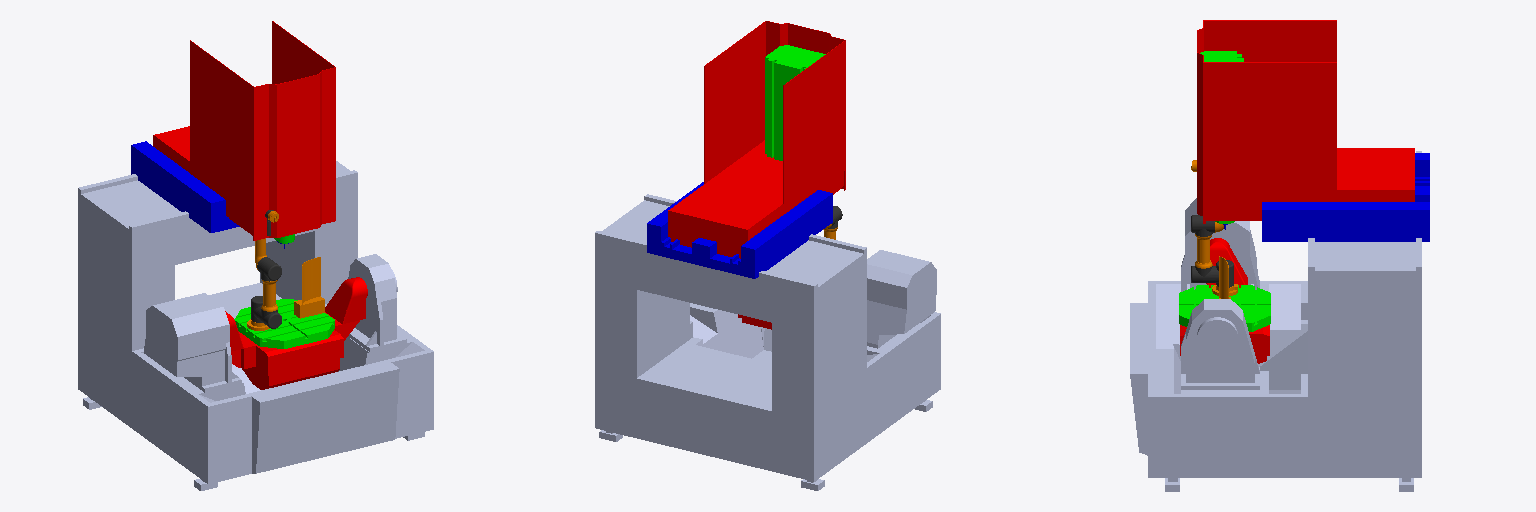
The robot description file, URDF, robot "aobo_tuopu":
 <robot name="aobo_tuopu"> 
	<link name="link_base">
		<visual>
		  <origin xyz="0. 0. 0." rpy="0. 0. 0." />
		  <geometry>
			<mesh filename="Geometry/A_TABLE_SURPORT.obj" scale="0.001 0.001 0.001" />
		  </geometry>
		  <material
			name="color0">
			<color rgba="0.792156862745098 0.819607843137255 0.933333333333333 0.8" />
		  </material>
		</visual>
		<collision>
          <origin rpy="0 0 0" xyz="0 0 0"/>
          <geometry>
            <mesh filename="Geometry/A_TABLE_SURPORT_vhacd.obj" scale="0.001 0.001 0.001" />
          </geometry>
        </collision>

		<visual>
		  <origin xyz="0. 0. 0." rpy="0. 0. 0." />
		  <geometry>
			<mesh filename="Geometry/BED.obj" scale="0.001 0.001 0.001" />
		  </geometry>
		  <material
			name="color0">
			<color rgba="0.792156862745098 0.819607843137255 0.933333333333333 0.8" />
		  </material>
		</visual>
		<collision>
          <origin rpy="0 0 0" xyz="0 0 0"/>
          <geometry>
            <mesh filename="Geometry/BED_vhacd.obj" scale="0.001 0.001 0.001" />
          </geometry>
        </collision>
    </link>
				
	<link name="link_X_axis">
		<visual>
		  <origin xyz="0. 0. 0." rpy="0. 0. 0." />
		  <geometry>
			<mesh filename="Geometry/X_AXIS.obj" scale="0.001 0.001 0.001" />
		  </geometry>
		  <material
			name="color3">
			<color rgba="0 0 1 0.8" />
		  </material>
		</visual>
		<collision>
          <origin xyz="0. 0. 0." rpy="0. 0. 0." />
          <geometry>
            <mesh filename="Geometry/X_AXIS_vhacd.obj" scale="0.001 0.001 0.001" />
          </geometry>
        </collision>
    </link>
	
	
	<joint name="machine_X" type="prismatic">
        <axis xyz="1 0 0"/>
        <parent link="link_base"/>
        <child link="link_X_axis"/>
        <origin rpy="0. 0. 0." xyz="0. 0. 0."/>
        <limit effort="100" velocity="100"/>
        <joint_properties damping="0.0" friction="0.0"/>
    </joint>
	
	<link name="link_Y_axis">
		<visual>
		  <origin xyz="0. 0. 0." rpy="0. 0. 0." />
		  <geometry>
			<mesh filename="Geometry/Y_Axis.obj" scale="0.001 0.001 0.001" />
		  </geometry>
		  <material
			name="color1">
		  </material>
		</visual>
		<collision>
          <origin xyz="0. 0. 0." rpy="0. 0. 0." />
          <geometry>
            <mesh filename="Geometry/Y_Axis_vhacd.obj" scale="0.001 0.001 0.001" />
          </geometry>
        </collision>
    </link>
	
	<joint name="machine_Y" type="prismatic">
        <axis xyz="0 1 0"/>
        <parent link="link_X_axis"/>
        <child link="link_Y_axis"/>
        <origin rpy="0. 0. 0." xyz="0. 0. 0."/>
        <limit effort="100" velocity="100"/>
        <joint_properties damping="0.0" friction="0.0"/>
    </joint>
	
	<link name="link_Z_axis">
		<visual>
		  <origin xyz="0. 0. 0." rpy="0. 0. 0." />
		  <geometry>
			<mesh filename="Geometry/Z_Axis.obj" scale="0.001 0.001 0.001" />
		  </geometry>
		  <material
			name="color2">
		  </material>
		</visual>
		<collision>
          <origin xyz="0. 0. 0." rpy="0. 0. 0." />
          <geometry>
            <mesh filename="Geometry/Z_Axis_vhacd.obj" scale="0.001 0.001 0.001" />
          </geometry>
        </collision>
    </link>
	
	<joint name="machine_Z" type="prismatic">
        <axis xyz="0 0 1"/>
        <parent link="link_Y_axis"/>
        <child link="link_Z_axis"/>
        <origin rpy="0. 0. 0." xyz="0. 0. 0."/>
        <limit effort="100" velocity="100"/>
        <joint_properties damping="0.0" friction="0.0"/>
    </joint>
	
	<link name="link_A_axis">
		<visual>
		  <origin xyz="0. +0.05 -.128" rpy="0. 0. 0." />
		  <geometry>
			<mesh filename="Geometry/A_TABLE.obj" scale="0.001 0.001 0.001" />
		  </geometry>
		  <material
			name="color1">
			<color rgba="1 0 0 0.8" />
		  </material>
		</visual>
		<collision>
          <origin xyz="0. +0.05 -.128" rpy="0. 0. 0." />
          <geometry>
            <mesh filename="Geometry/A_TABLE_vhacd.obj" scale="0.001 0.001 0.001" />
          </geometry>
        </collision>
    </link>
	
	<joint name="machine_A" type="revolute">
        <axis xyz="1 0 0"/>
        <parent link="link_base"/>
        <child link="link_A_axis"/>
        <origin rpy="0. 0. 0." xyz="0. -.05 .128"/>
        <limit effort="100" velocity="100"/>
        <joint_properties damping="0.0" friction="0.0"/>
    </joint>
    

    <link name="link_C_axis">
		<visual>
		  <origin xyz="0. 0. 0." rpy="0. 0. 0." />
		  <geometry>
			<mesh filename="Geometry/C_TABLE.obj" scale="0.001 0.001 0.001" />
		  </geometry>
		  <material
			name="color2">
			<color rgba="0 1 0 0.8" />
		  </material>
		</visual>
		<collision>
          <origin xyz="0. 0. 0." rpy="0. 0. 0." />
          <geometry>
            <mesh filename="Geometry/C_TABLE_vhacd.obj" scale="0.001 0.001 0.001" />
          </geometry>
        </collision>
        <visual>
		  <origin xyz="-0.2 0. 0." rpy="0. 0. 0." />
		  <geometry>
			<mesh filename="Geometry/i7-(1)-base.obj" scale="0.001 0.001 0.001" />
		  </geometry>
		  <material
			name="robot_orange">
			<color rgba="0.9137255 0.5137254 0. 1" />
		  </material>
		</visual>
		<collision>
          <origin xyz="-0.2 0. 0." rpy="0. 0. 0." />
          <geometry>
            <mesh filename="Geometry/i7-(1)-base_vhacd.obj" scale="0.001 0.001 0.001" />
          </geometry>
        </collision>

		<visual>
		  <origin xyz="0.2 0 0." rpy="0. 0. 0." />
		  <geometry>
			<mesh filename="Geometry/workpiece.obj" scale="0.001 0.001 0.001" />
		  </geometry>
		  <material
			name="robot_orange">
			<color rgba="0.9137255 0.5137254 0. 1" />
		  </material>
		</visual>
		<collision>
          <origin xyz="0.2 0 0." rpy="0. 0. 0." />
          <geometry>
            <mesh filename="Geometry/workpiece_vhacd.obj" scale="0.001 0.001 0.001" />
          </geometry>
        </collision>
    </link>
	
	<joint name="machine_C" type="revolute">
        <axis xyz="0 0 1"/>
        <parent link="link_A_axis"/>
        <child link="link_C_axis"/>
        <origin rpy="0. 0. 0." xyz="0. +.05 -.128"/>
        <limit effort="100" velocity="100"/>
        <joint_properties damping="0.0" friction="0.0"/>
    </joint>
	
	<link name="link_S_axis">
		<visual>
		  <origin xyz="0. 0. 0." rpy="0. 0. 0." />
		  <geometry>
			<mesh filename="Geometry/Spindle.obj" scale="0.001 0.001 0.001" />
		  </geometry>
		  <material
			name="color3">
		  </material>
		</visual>
		<collision>
          <origin xyz="0. 0. 0." rpy="0. 0. 0." />
          <geometry>
            <mesh filename="Geometry/Spindle_vhacd.obj" scale="0.001 0.001 0.001" />
          </geometry>
        </collision>

		<visual>
		  <origin xyz="0. 0. 0.54" rpy="1.57 0. 0." />
		  <geometry>
			<mesh filename="Geometry/cutter_tool.obj" scale="0.001 0.001 0.001" />
		  </geometry>
		  <material
			name="color3">
		  </material>
		</visual>
		<collision>
          <origin xyz="0. 0. 0.54" rpy="1.57 0. 0." />
          <geometry>
            <mesh filename="Geometry/cutter_tool.obj" scale="0.001 0.001 0.001" />
          </geometry>
        </collision>
    </link>
	
	<joint name="machine_S" type="continuous">
        <axis xyz="0 0 1"/>
        <parent link="link_Z_axis"/>
        <child link="link_S_axis"/>
        <origin rpy="0. 0. 0." xyz="0. 0. 0."/>
        <limit effort="100" velocity="100"/>
        <joint_properties damping="0.0" friction="0.0"/>
    </joint>
	
	
	<link name="link_robot_joint1">
		<visual>
		  <origin xyz="0. 0. -.122" rpy="0. 0. 0" />
		  <geometry>
			<mesh filename="Geometry/i7-(2)-ID1.obj" scale="0.001 0.001 0.001" />
		  </geometry>
		  <material
			name="robot_black">
			<color rgba="0.2509804 0.2509804 0.2509804 1" />
		  </material>
		</visual>
		<collision>
          <origin xyz="0. 0. -.122" rpy="0. 0. 0" />
          <geometry>
            <mesh filename="Geometry/i7-(2)-ID1_vhacd.obj" scale="0.001 0.001 0.001" />
          </geometry>
        </collision>
    </link>
	
	<joint name="robot_j1" type="revolute">
        <axis xyz="0 0 1"/>
        <parent link="link_C_axis"/>
        <child link="link_robot_joint1"/>
        <origin rpy="0. 0. 0" xyz="-0.2 0. 0.122"/>
        <limit effort="100" velocity="100"/>
        <joint_properties damping="0.0" friction="0.0"/>
    </joint>
	
	<link name="link_robot_joint2">
		<visual>
		  <origin xyz="0. 0.1215 -.122" rpy="0. 0. 0" />
		  <geometry>
			<mesh filename="Geometry/i7-(3)-ID2.obj" scale="0.001 0.001 0.001" />
		  </geometry>
		  <material
			name="robot_black">
			<color rgba="0.2509804 0.2509804 0.2509804 1" />
		  </material>
		</visual>
		<collision>
          <origin xyz="0. 0.1215 -.122" rpy="0. 0. 0" />
          <geometry>
            <mesh filename="Geometry/i7-(3)-ID2_vhacd.obj" scale="0.001 0.001 0.001" />
          </geometry>
        </collision>
		
		<visual>
		  <origin xyz="0. 0.1215 -0.122" rpy="0. 0. 0" />
		  <geometry>
			<mesh filename="Geometry/i7-(8)-dabiguan.obj" scale="0.001 0.001 0.001" />
		  </geometry>
		  <material
			name="robot_orange">
		  </material>
		</visual>
		<collision>
          <origin xyz="0. 0.1215 -0.122" rpy="0. 0. 0" />
          <geometry>
            <mesh filename="Geometry/i7-(8)-dabiguan_vhacd.obj" scale="0.001 0.001 0.001" />
          </geometry>
        </collision>
		
		<visual>
		  <origin xyz="0. 0.1215 -0.122" rpy="0. 0. 0" />
		  <geometry>
			<mesh filename="Geometry/i7-(4)-ID3.obj" scale="0.001 0.001 0.001" />
		  </geometry>
		  <material name="robot_black"/>
		</visual>
		<collision>
          <origin xyz="0. 0.1215 -0.122" rpy="0. 0. 0" />
          <geometry>
            <mesh filename="Geometry/i7-(4)-ID3_vhacd.obj" scale="0.001 0.001 0.001" />
          </geometry>
        </collision>
    </link>
	
	<joint name="robot_j2" type="revolute">
        <axis xyz="0 1 0"/>
        <parent link="link_robot_joint1"/>
        <child link="link_robot_joint2"/>
        <origin rpy="0. 0. 0." xyz="0. -0.1215 0."/>
        <limit effort="100" velocity="100"/>
        <joint_properties damping="0.0" friction="0.0"/>
    </joint>
	
	<link name="link_robot_joint3">
		<visual>
		  <origin xyz="0. 0.1215 -0.490" rpy="0. 0. 0" />
		  <geometry>
			<mesh filename="Geometry/i7-(10)-wantou.obj" scale="0.001 0.001 0.001" />
		  </geometry>
		  <material
			name="robot_orange">
		  </material>
		</visual>
		<collision>
          <origin xyz="0. 0.1215 -0.490" rpy="0. 0. 0" />
          <geometry>
            <mesh filename="Geometry/i7-(10)-wantou_vhacd.obj" scale="0.001 0.001 0.001" />
          </geometry>
        </collision>
		
		<visual>
		  <origin xyz="0. 0.1215 -0.490" rpy="0. 0. 0" />
		  <geometry>
			<mesh filename="Geometry/i7-(9)-xiaobiguan.obj" scale="0.001 0.001 0.001" />
		  </geometry>
		  <material
			name="robot_orange">
		  </material>
		</visual>
		<collision>
          <origin xyz="0. 0.1215 -0.490" rpy="0. 0. 0" />
          <geometry>
            <mesh filename="Geometry/i7-(9)-xiaobiguan_vhacd.obj" scale="0.001 0.001 0.001" />
          </geometry>
        </collision>
		
		<visual>
		  <origin xyz="0. 0.1215 -0.490" rpy="0. 0. 0" />
		  <geometry>
			<mesh filename="Geometry/i7-(5)-ID4.obj" scale="0.001 0.001 0.001" />
		  </geometry>
		  <material
			name="robot_black">
		  </material>
		</visual>
		<collision>
          <origin xyz="0. 0.1215 -0.490" rpy="0. 0. 0" />
          <geometry>
            <mesh filename="Geometry/i7-(5)-ID4_vhacd.obj" scale="0.001 0.001 0.001" />
          </geometry>
        </collision>
    </link>
	
	<joint name="robot_j3" type="revolute">
        <axis xyz="0 1 0"/>
        <parent link="link_robot_joint2"/>
        <child link="link_robot_joint3"/>
        <origin rpy="0. 0. 0." xyz="0. 0. 0.368"/>
        <limit effort="100" velocity="100"/>
        <joint_properties damping="0.0" friction="0.0"/>
    </joint>
	
	
	<link name="link_robot_joint4">
		<visual>
		  <origin xyz="0. 0.1215 -0.806" rpy="0. 0. 0" />
		  <geometry>
			<mesh filename="Geometry/i7-(6)-ID5.obj" scale="0.001 0.001 0.001" />
		  </geometry>
		  <material
			name="robot_black">
		  </material>
		</visual>
		<collision>
          <origin xyz="0. 0.1215 -0.806" rpy="0. 0. 0" />
          <geometry>
            <mesh filename="Geometry/i7-(6)-ID5_vhacd.obj" scale="0.001 0.001 0.001" />
          </geometry>
        </collision>
    </link>
	
	<joint name="robot_j4" type="revolute">
        <axis xyz="0 1 0"/>
        <parent link="link_robot_joint3"/>
        <child link="link_robot_joint4"/>
        <origin rpy="0 0 0" xyz="0. 0. 0.316"/>
        <limit effort="100" velocity="100"/>
        <joint_properties damping="0.0" friction="0.0"/>
    </joint>
	
	<link name="link_robot_joint5">
		<visual>
		  <origin xyz="0. 0.1215 -0.9085" rpy="0. 0. 0" />
		  <geometry>
			<mesh filename="Geometry/i7-(7)-ID6.obj" scale="0.001 0.001 0.001" />
		  </geometry>
		  <material
			name="robot_black">
		  </material>
		</visual>
		<collision>
          <origin xyz="0. 0.1215 -0.9085" rpy="0. 0. 0" />
          <geometry>
            <mesh filename="Geometry/i7-(7)-ID6_vhacd.obj" scale="0.001 0.001 0.001" />
          </geometry>
        </collision>
    </link>
	
	<joint name="robot_j5" type="revolute">
        <axis xyz="0 0 1"/>
        <parent link="link_robot_joint4"/>
        <child link="link_robot_joint5"/>
        <origin rpy="0 0 0" xyz="0. 0. 0.1025"/>
        <limit effort="100" velocity="100"/>
        <joint_properties damping="0.0" friction="0.0"/>
    </joint>
	
	<link name="link_robot_joint6">
		<visual>
		  <origin xyz="0. 0.2155 -0.9085" rpy="0. 0. 0" />
		  <geometry>
			<mesh filename="Geometry/i7-(11)-endeffect.obj" scale="0.001 0.001 0.001" />
		  </geometry>
		  <material
			name="robot_orange">
		  </material>
		</visual>
		<collision>
          <origin xyz="0. 0.2155 -0.9085" rpy="0. 0. 0" />
          <geometry>
            <mesh filename="Geometry/i7-(11)-endeffect_vhacd.obj" scale="0.001 0.001 0.001" />
          </geometry>
        </collision>
    </link>
	
	<joint name="robot_j6" type="revolute">
        <axis xyz="0 1 0"/>
        <parent link="link_robot_joint5"/>
        <child link="link_robot_joint6"/>
        <origin rpy="0 0 0" xyz="0. -0.094 0."/>
        <limit effort="100" velocity="100"/>
        <joint_properties damping="0.0" friction="0.0"/>
    </joint>

	 <link name="link_robot_end">
		<visual>
		  <origin xyz="0.02 0.034 -0.109" rpy="0. 0. 3.14" />
		  <geometry>
			<mesh filename="Geometry/endeffect_tool.obj" scale="0.001 0.001 0.001" />
		  </geometry>
		  <material
			name="robot_orange">
		  </material>
		</visual>
		<collision>
          <origin xyz="0.02 0.034 -0.109" rpy="0. 0. 3.14" />
          <geometry>
            <mesh filename="Geometry/endeffect_tool.obj" scale="0.001 0.001 0.001" />
          </geometry>
        </collision>
    </link>

	<joint name="robot_end" type="fixed">
        <axis xyz="0 1 0"/>
        <parent link="link_robot_joint6"/>
        <child link="link_robot_end"/>
        <origin rpy="0 0 0" xyz="-0.02 -0.034 0.109"/>
        <limit effort="100" velocity="100"/>
        <joint_properties damping="0.0" friction="0.0"/>
    </joint>

</robot>

--- What the picture shows (computed from the rendered views, not written in the file) ---
3 views of the same robot in one strip: view 1: azimuth 30°, elevation 25°; view 2: azimuth 150°, elevation 25°; view 3: azimuth 270°, elevation 25° (orthographic).
Robot: aobo_tuopu — 14 links, 13 joints (8 revolute, 1 continuous, 3 prismatic, 1 fixed); root link link_base; default pose: all joints at 0.
Visible links, largest first — view 1: link_base, link_Y_axis, link_A_axis, link_X_axis, link_C_axis, link_robot_joint2; view 2: link_base, link_Y_axis, link_X_axis, link_Z_axis; view 3: link_base, link_Y_axis, link_X_axis, link_C_axis, link_A_axis, link_robot_joint2.
Boxes of the visible links, bbox=[...] form: link_base: bbox=[78, 161, 433, 490]; link_Y_axis: bbox=[153, 21, 335, 240]; link_A_axis: bbox=[225, 277, 367, 389]; link_X_axis: bbox=[131, 141, 239, 232]; link_C_axis: bbox=[234, 257, 334, 348]; link_robot_joint2: bbox=[257, 257, 281, 328]; link_base: bbox=[595, 194, 940, 490]; link_Y_axis: bbox=[668, 21, 845, 258]; link_X_axis: bbox=[647, 182, 832, 278]; link_Z_axis: bbox=[765, 45, 825, 160]; link_base: bbox=[1130, 151, 1421, 491]; link_Y_axis: bbox=[1197, 20, 1414, 223]; link_X_axis: bbox=[1262, 153, 1429, 241]; link_C_axis: bbox=[1179, 256, 1270, 331]; link_A_axis: bbox=[1180, 238, 1269, 363]; link_robot_joint2: bbox=[1191, 215, 1214, 282].
Size in the robot's own frame: 1.91 by 1.97 by 2.84 metres.
Meshes: 22 distinct files referenced, 22 mesh visuals loaded (22 OBJ).
